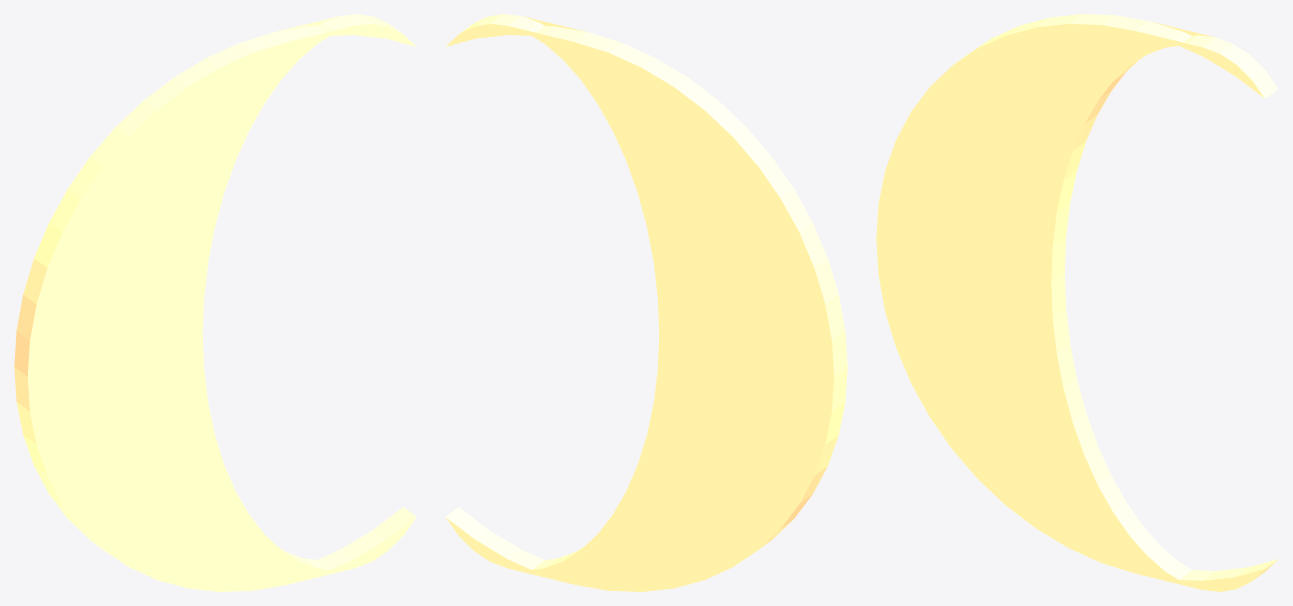
Rendered from sf4_crescent_moon.glb.
The picture shows the model from 3 angles, left to right: view 1: azimuth 30°, elevation 25°; view 2: azimuth 150°, elevation 25°; view 3: azimuth 330°, elevation 25°; orthographic projection.
Visible parts, largest first — view 1: sf4_crescent_moon__sf3-warm-window; view 2: sf4_crescent_moon__sf3-warm-window; view 3: sf4_crescent_moon__sf3-warm-window.
Part boxes in pixels (x1,y1,x2,y2): sf4_crescent_moon__sf3-warm-window: (14, 14, 416, 591); sf4_crescent_moon__sf3-warm-window: (445, 14, 847, 591); sf4_crescent_moon__sf3-warm-window: (876, 14, 1278, 591).
Bounding box in the file's own units: 6 × 8 × 0.36.
